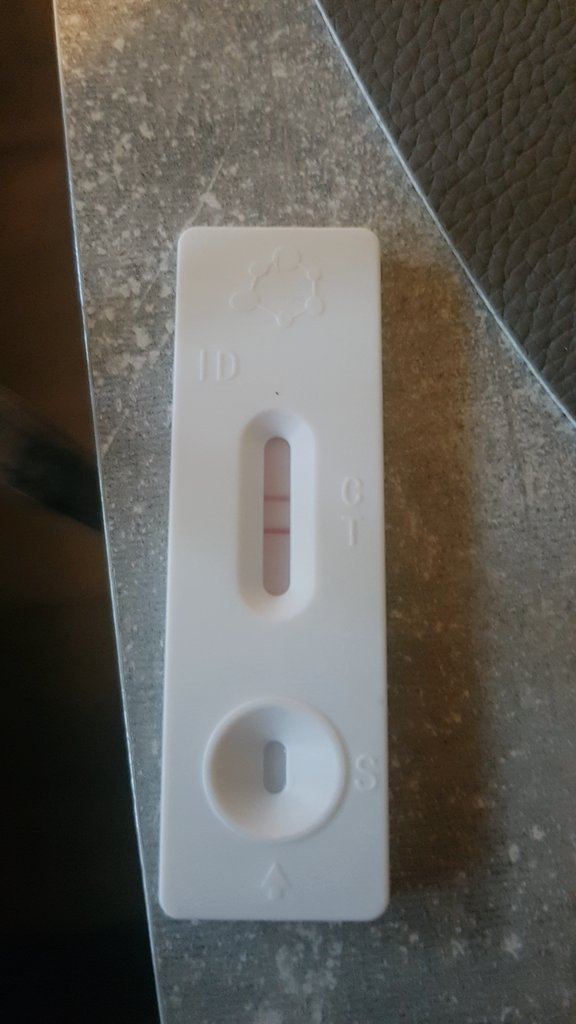positive: (246, 423, 310, 613)
